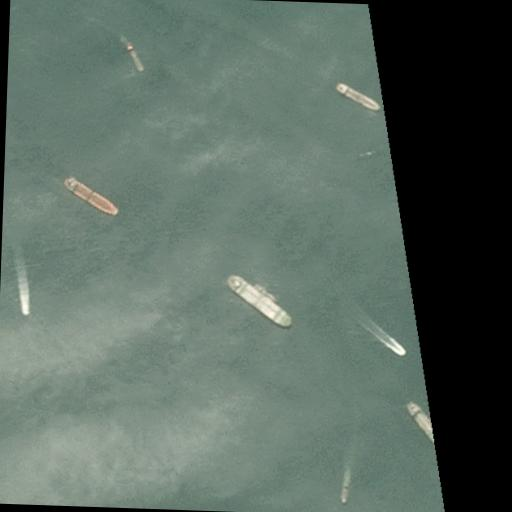ship: (220, 276, 291, 328), (60, 176, 118, 214), (401, 404, 437, 446), (332, 82, 380, 112), (122, 38, 144, 72), (338, 482, 349, 504), (19, 298, 29, 316), (394, 347, 406, 355)
